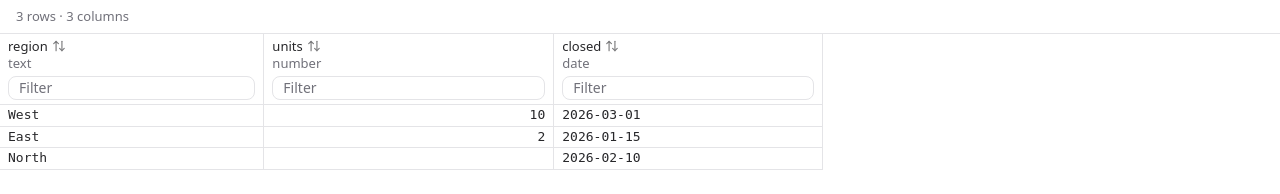
Test case: DataTablePreview › offers no Copy while a filter hides the selected row
Click the cell "North": [132, 159] box [0, 148, 264, 170]
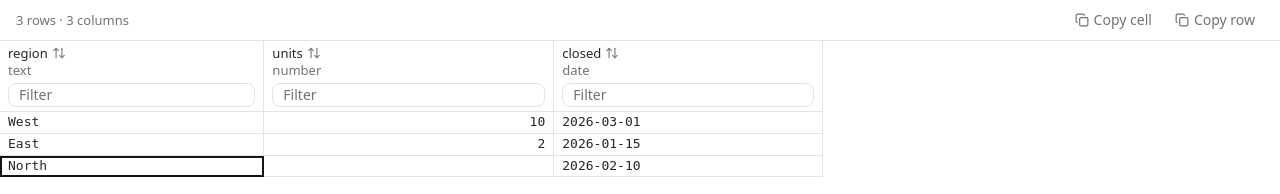
Now the button "Copy cell" is shown, box [1065, 8, 1161, 32]
In the field named "Filter region": [132, 95] box [8, 83, 255, 107], type "East"
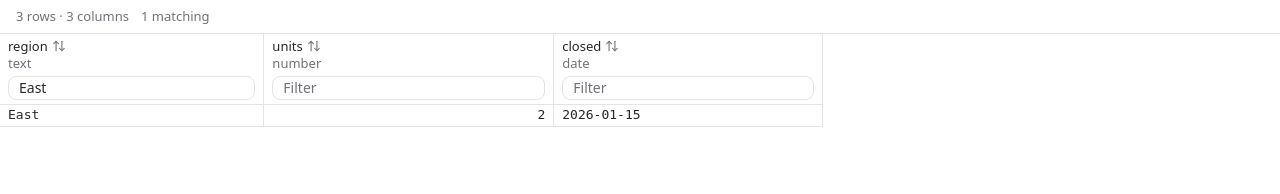
Now the button "Copy cell" is gone
